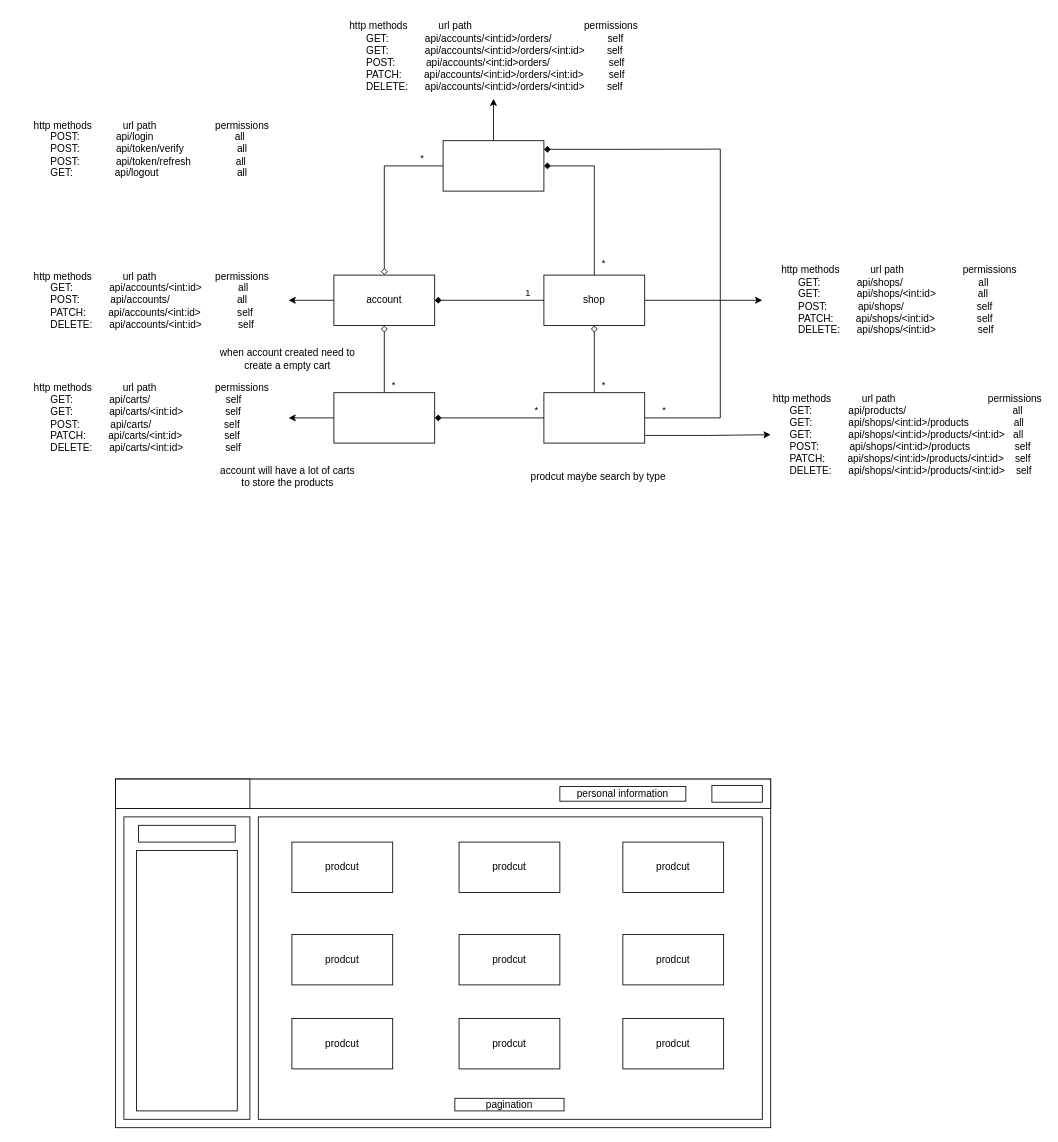
The diagram is 1058 pixels wide and 1142 high, and some of its shapes have lost their labels. The centre of each missing label's shape, as x and y in pixels:
cart: point 384,417
functions: point 736,793
logo: point 182,793
order: point 493,165
product: point 594,417
products type: point 186,980
search: point 186,833
